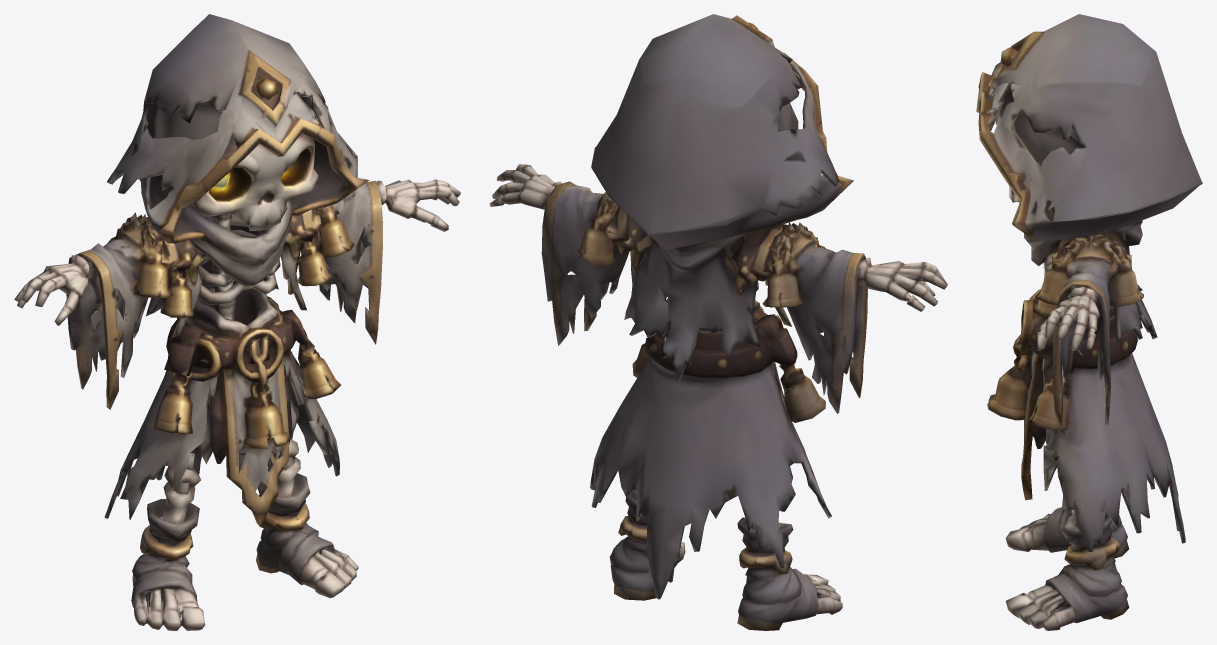
Rendered from retopo.glb.
3 renders of one model, left to right at view 1: azimuth 30°, elevation 25°; view 2: azimuth 150°, elevation 25°; view 3: azimuth 270°, elevation 25°, orthographic. The views are drawn at different scales.
Parts seen in each view (by area): view 1: tripo_node_ec575733-8611-44da-9aab-86b937cad85c; view 2: tripo_node_ec575733-8611-44da-9aab-86b937cad85c; view 3: tripo_node_ec575733-8611-44da-9aab-86b937cad85c.
Boxes of the visible parts, <box> form: tripo_node_ec575733-8611-44da-9aab-86b937cad85c: <box>14,14,460,630</box>; tripo_node_ec575733-8611-44da-9aab-86b937cad85c: <box>489,14,947,630</box>; tripo_node_ec575733-8611-44da-9aab-86b937cad85c: <box>976,14,1202,630</box>.
Size of the model in its own units: 0.7862 by 0.9776 by 0.3539.
1 material, 1 textured.
